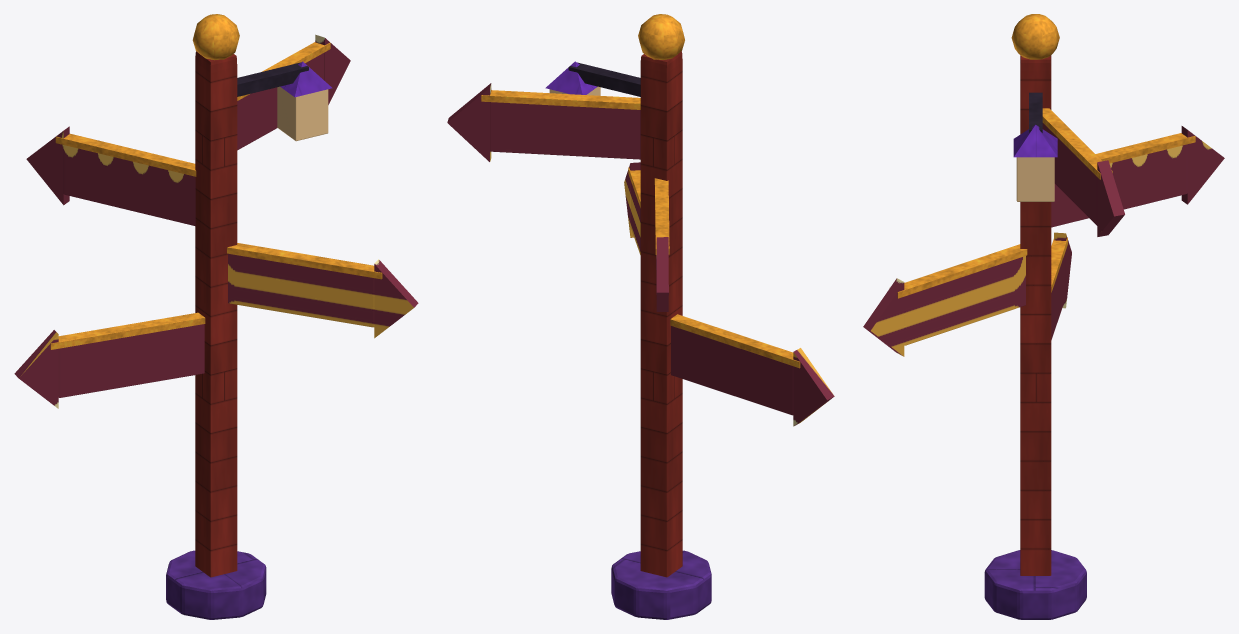
File: MO_Signpost.fbx
3 renders of one model, left to right at view 1: azimuth 30°, elevation 25°; view 2: azimuth 150°, elevation 25°; view 3: azimuth 270°, elevation 25°, orthographic.
Parts seen in each view (by area): view 1: MO_Signpost; view 2: MO_Signpost; view 3: MO_Signpost.
Boxes of the visible parts, x1=… form: MO_Signpost: x1=14, y1=14, x2=418, y2=619; MO_Signpost: x1=447, y1=14, x2=834, y2=619; MO_Signpost: x1=863, y1=14, x2=1224, y2=619.
Size of the model in its own units: 2.41 by 3.74 by 2.1.
